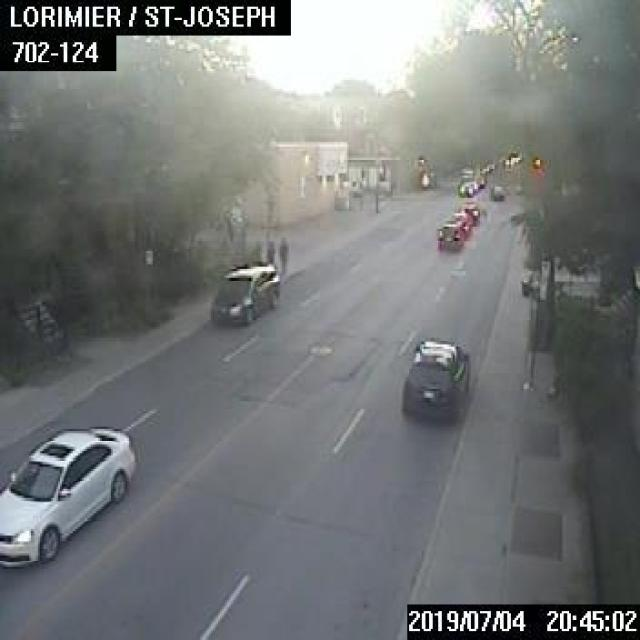pedestrian: (276, 235, 286, 272), (264, 238, 276, 263)
vehicle: (0, 427, 133, 569), (400, 336, 467, 422), (209, 262, 278, 322), (436, 221, 461, 249), (449, 211, 469, 234), (458, 202, 478, 224), (488, 184, 502, 199), (458, 180, 472, 194), (473, 174, 484, 186), (466, 179, 476, 189)
